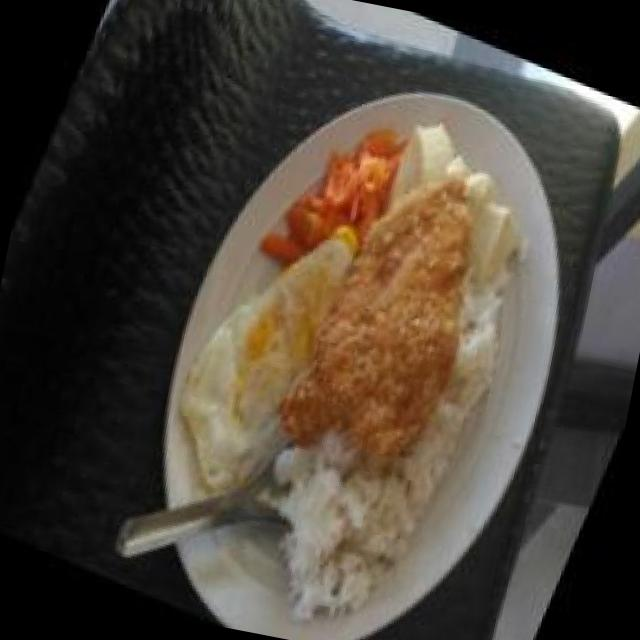carrot_eggs: (260, 92, 413, 280)
fried_chicken: (268, 139, 528, 506)
fried_eggs: (148, 193, 359, 511)
rice: (252, 436, 430, 626)
